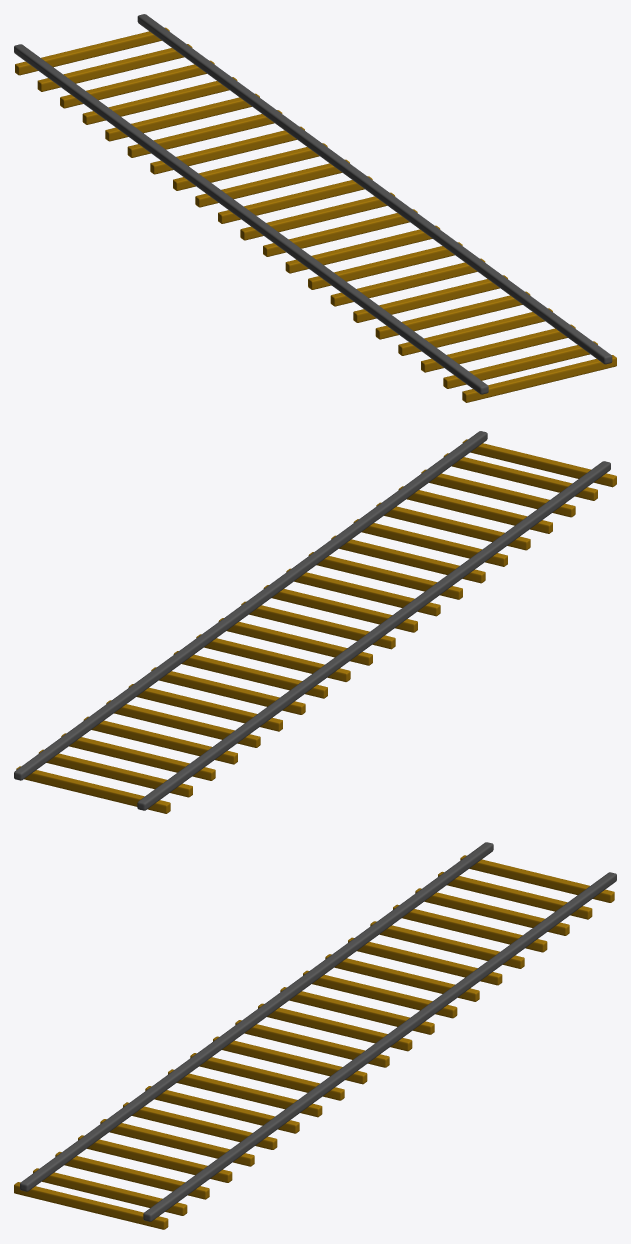
Rendered from rail.fbx.
3 views of the same model, one above another, from view 1: azimuth 30°, elevation 25°; view 2: azimuth 150°, elevation 25°; view 3: azimuth 330°, elevation 25° (orthographic).
Visible parts, largest first — view 1: Box232, Box28, Box253, Box245, Box249, Box238, Box243, Box247, Box234, Box236, Box239, Box241 (+11 smaller); view 2: Box232, Box28, Box233, Box247, Box243, Box251, Box237, Box245, Box234, Box235, Box249, Box250 (+11 smaller); view 3: Box28, Box232, Box253, Box238, Box240, Box248, Box250, Box246, Box251, Box235, Box242, Box245 (+11 smaller).
Boxes of the visible parts, x1,y1,x2,y2 form: Box232: (137,14,612,364); Box28: (14,44,488,394); Box253: (462,355,616,402); Box245: (285,225,440,273); Box249: (375,291,530,339); Box238: (127,110,282,157); Box243: (240,192,395,240); Box247: (330,258,485,306); Box234: (37,44,192,91); Box236: (82,77,237,124); Box239: (150,126,304,174); Box241: (195,159,349,207); Box232: (14,431,487,780); Box28: (137,461,610,810); Box233: (16,766,170,813); Box247: (331,535,485,583); Box243: (241,601,395,649); Box251: (421,469,575,517); Box237: (106,700,260,747); Box245: (286,568,440,616); Box234: (38,749,192,797); Box235: (61,733,215,780); Box249: (376,502,530,550); Box250: (398,486,552,533); Box28: (20,842,493,1191); Box232: (143,872,616,1221); Box253: (14,1182,168,1229); Box238: (348,937,502,985); Box240: (303,970,457,1018); Box248: (123,1102,277,1149); Box250: (78,1135,232,1182); Box246: (168,1069,322,1117); Box251: (55,1151,209,1199); Box235: (415,888,569,935); Box242: (258,1003,412,1051); Box245: (190,1053,344,1100).
Size of the model in its own units: 89.86 by 9.41 by 481.
